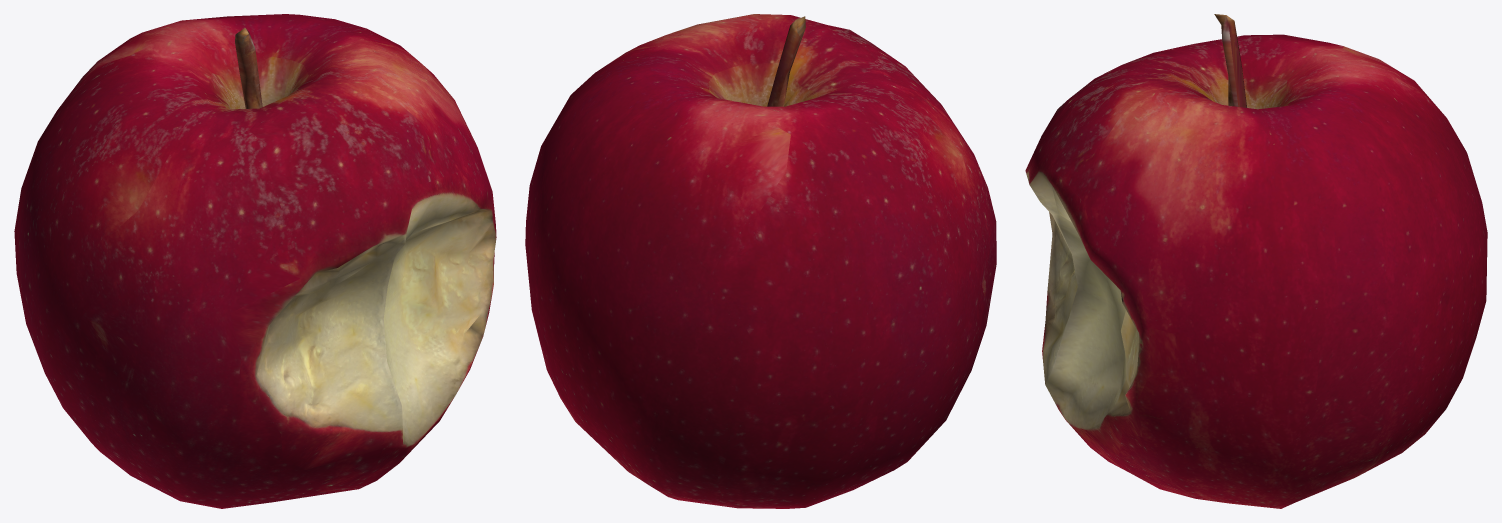
The model's file is apple_midX5.obj.
The picture shows the model from 3 angles, left to right: view 1: azimuth 30°, elevation 25°; view 2: azimuth 150°, elevation 25°; view 3: azimuth 270°, elevation 25°; orthographic projection. The views are drawn at different scales.
Parts seen in each view (by area): view 1: tgzpdhlpa_LOD0_TIER2_000; view 2: tgzpdhlpa_LOD0_TIER2_000; view 3: tgzpdhlpa_LOD0_TIER2_000.
Boxes of the visible parts, x1=… form: tgzpdhlpa_LOD0_TIER2_000: x1=14, y1=14, x2=496, y2=508; tgzpdhlpa_LOD0_TIER2_000: x1=525, y1=14, x2=996, y2=508; tgzpdhlpa_LOD0_TIER2_000: x1=1025, y1=14, x2=1487, y2=508.
Size of the model in its own units: 0.7654 by 0.7991 by 0.7562.
Materials: 1 (1 with a texture image).
